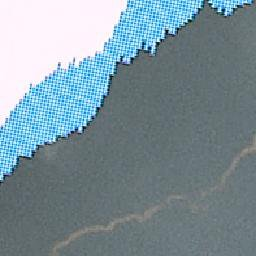debris: (153, 197, 211, 213), (110, 212, 158, 224), (70, 225, 113, 238), (194, 178, 229, 192), (242, 132, 255, 159), (228, 154, 241, 175), (52, 240, 68, 249)
